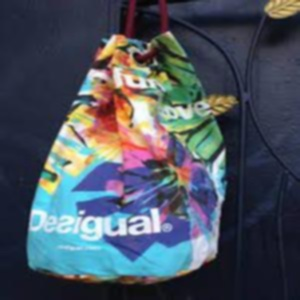desigual: (153, 97, 180, 300)
